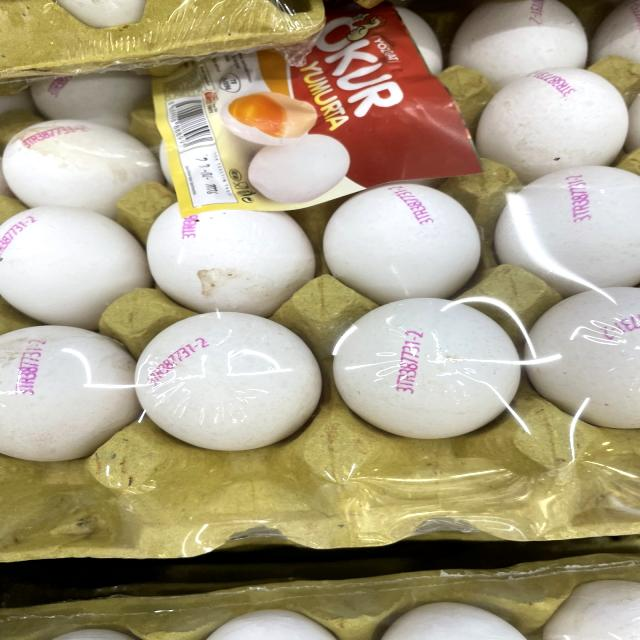egg: (120, 294, 333, 458), (322, 279, 530, 446), (320, 172, 487, 299), (0, 203, 159, 332), (473, 62, 635, 177)
